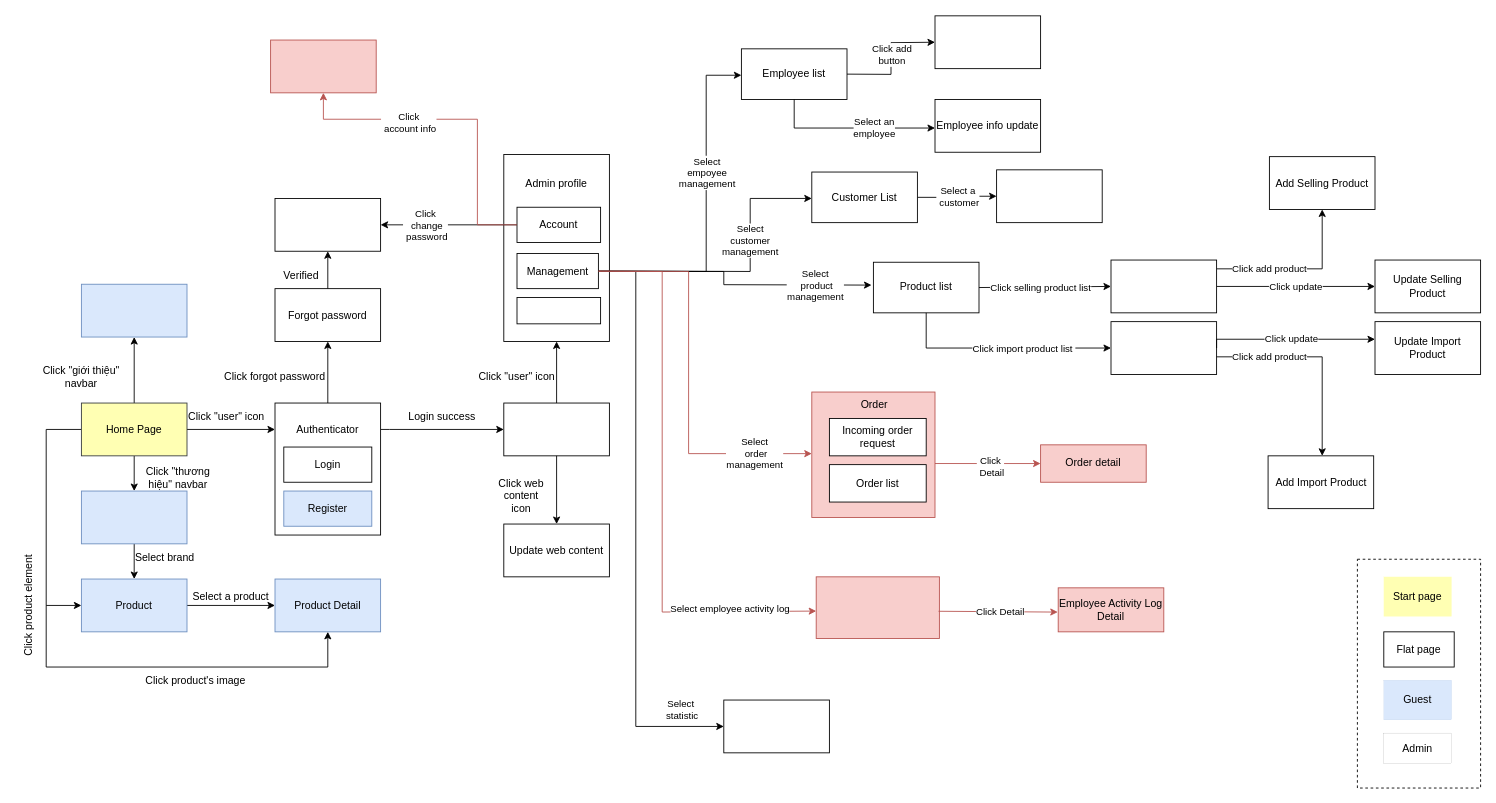
This 1496x803 diagram has some shape labels left out. Here are the shapes that lost their labels. From the top down, the centre of each, then its label:
At (x=987, y=42): "Add employee".
At (x=323, y=66): "Change account Info".
At (x=1049, y=196): "Update Customer's Info".
At (x=327, y=224): "Change password".
At (x=1163, y=286): "Selling Product List".
At (x=134, y=310): "Introduce".
At (x=558, y=310): "Logout".
At (x=1163, y=347): "Import Product List".
At (x=556, y=429): "Post Login".
At (x=134, y=517): "Brand".
At (x=877, y=607): "Employee Activity Log".
At (x=776, y=726): "Statistic".
